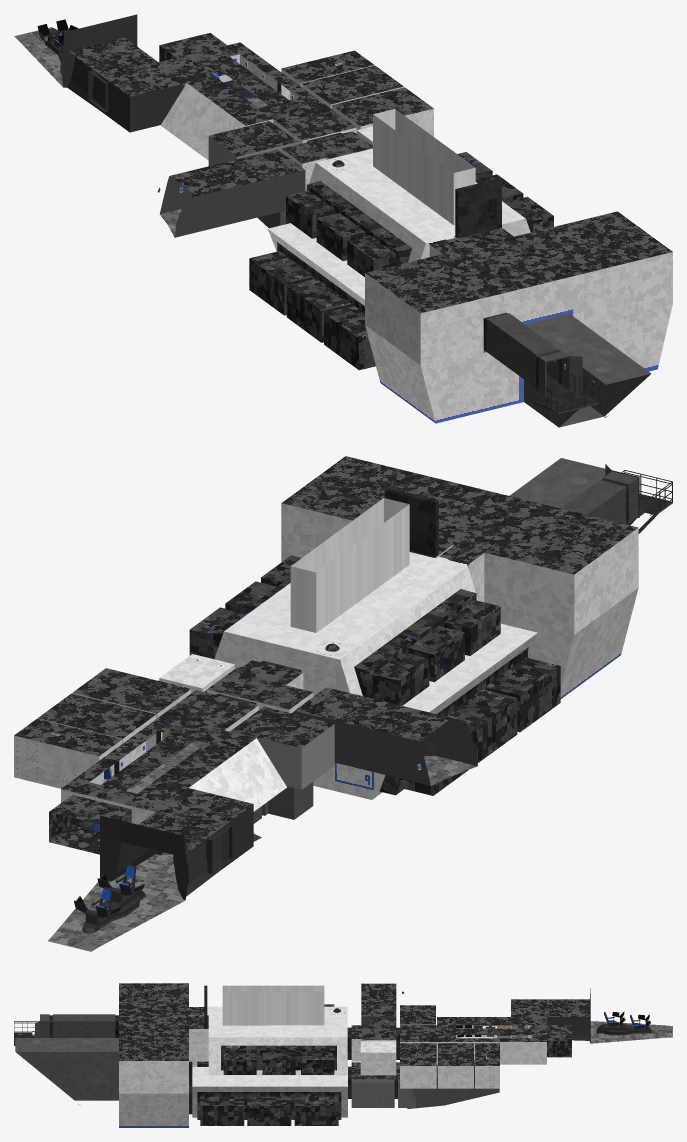
File: F7Blackpool_Interior.glb
3 views of the same model, one above another, from view 1: azimuth 30°, elevation 25°; view 2: azimuth 150°, elevation 25°; view 3: azimuth 270°, elevation 25° (orthographic). The views are drawn at different scales.
Visible parts, largest first — view 1: InteriorTop.001, InteriorTop, InteriorBottom, S4_Component_Bay_Port, S3_Component_Bay_Port_Top, InteriorBottom_Ceilling, S3_Component_Bay_Starboard_Top, Balcony Railings; view 2: InteriorTop.001, InteriorTop, InteriorBottom, S3_Component_Bay_Port_Top, S4_Component_Bay_Port, S3_Component_Bay_Starboard_Top, InteriorBottom_Ceilling, Cube.096; view 3: InteriorTop.001, InteriorTop, InteriorBottom, S4_Component_Bay_Starboard, S3_Component_Bay_Starboard_Top, InteriorBottom_Ceilling, Cube.096.
Boxes of the visible parts, x1,y1,x2,y2 form: InteriorTop.001: [68, 37, 672, 313]; InteriorTop: [14, 14, 672, 414]; InteriorBottom: [258, 210, 672, 427]; S4_Component_Bay_Port: [249, 242, 375, 370]; S3_Component_Bay_Port_Top: [286, 181, 411, 276]; InteriorBottom_Ceilling: [268, 223, 364, 299]; S3_Component_Bay_Starboard_Top: [457, 152, 553, 232]; Balcony Railings: [538, 373, 598, 412]; InteriorTop.001: [14, 456, 638, 853]; InteriorTop: [14, 464, 672, 951]; InteriorBottom: [253, 458, 638, 841]; S3_Component_Bay_Port_Top: [354, 589, 500, 705]; S4_Component_Bay_Port: [379, 647, 560, 795]; S3_Component_Bay_Starboard_Top: [189, 555, 301, 658]; InteriorBottom_Ceilling: [402, 624, 537, 712]; Cube.096: [82, 888, 146, 933]; InteriorTop.001: [119, 983, 589, 1065]; InteriorTop: [14, 985, 672, 1093]; InteriorBottom: [15, 1038, 499, 1127]; S4_Component_Bay_Starboard: [197, 1092, 341, 1125]; S3_Component_Bay_Starboard_Top: [221, 1045, 336, 1074]; InteriorBottom_Ceilling: [192, 1027, 399, 1086]; Cube.096: [596, 1024, 654, 1035].
Bounding box in the file's own units: 20.22 × 11.07 × 59.77.
Materials: 5 (4 with a texture image).
